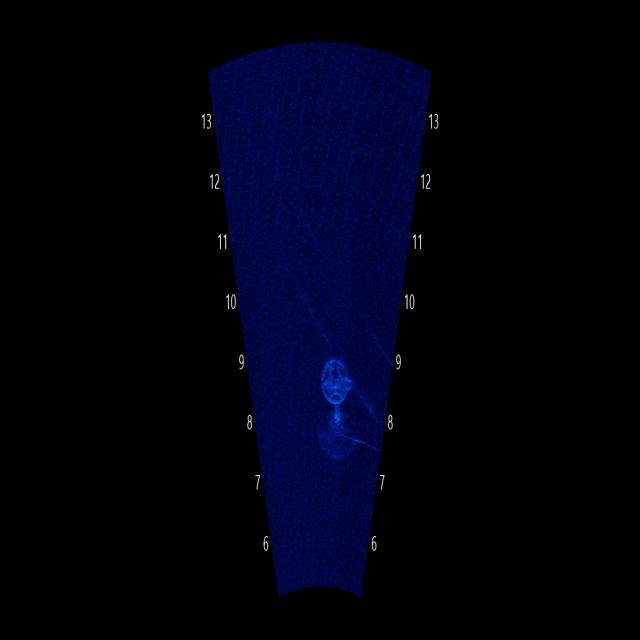circle: (310, 333, 356, 422)
